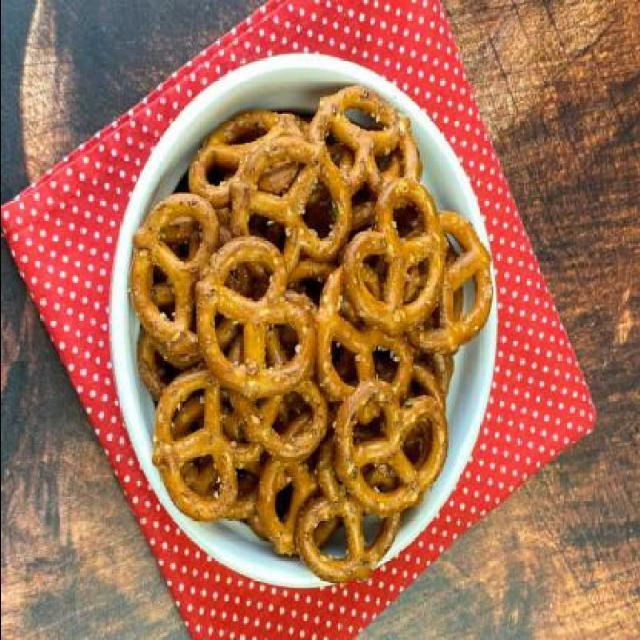Salatini packaged: (130, 87, 493, 584)
